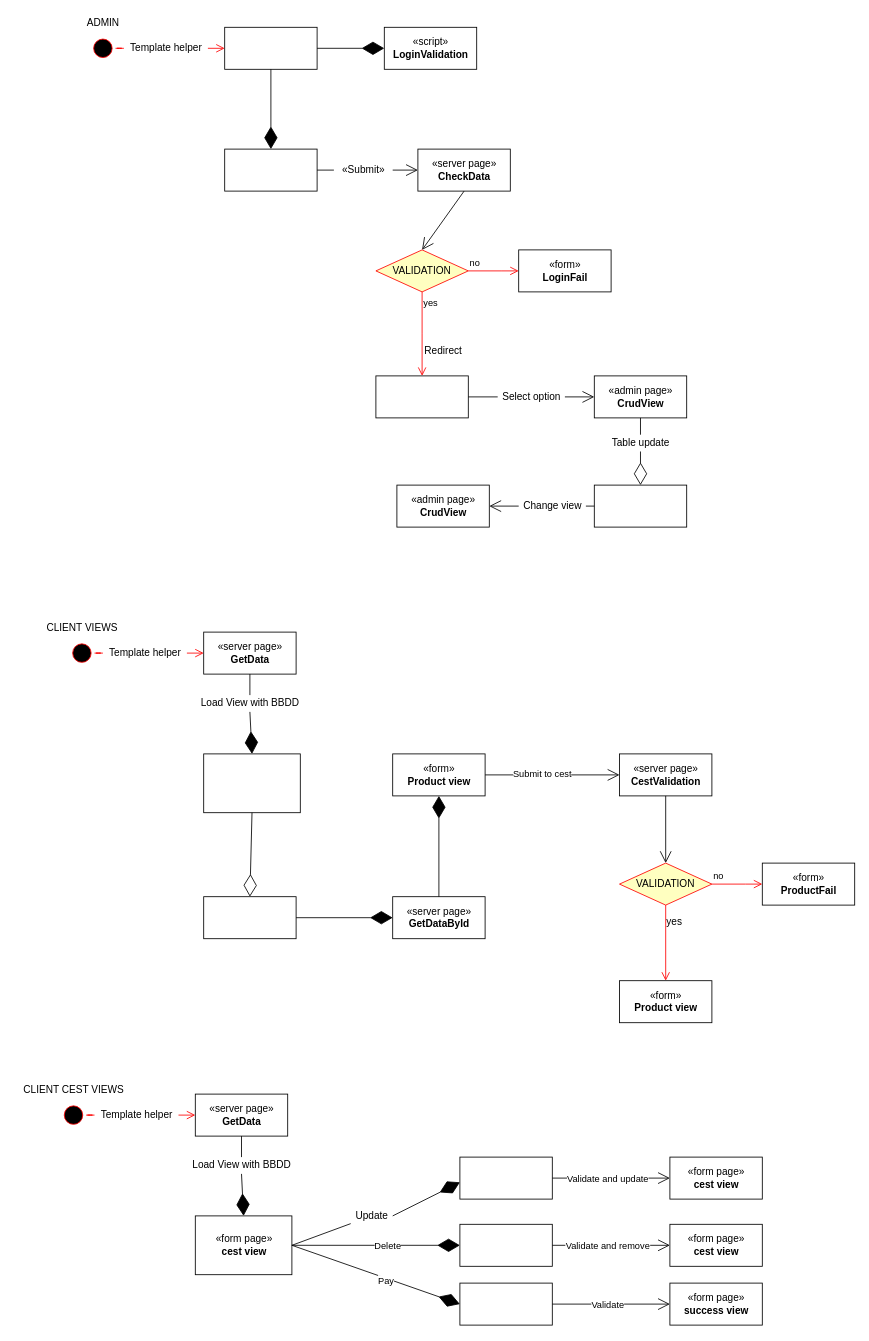
The diagram is 869 pixels wide and 1341 high, and some of its shapes have lost their labels. Here are the shapes that lost their labels. From the top down, the centre of each, then its label:
At (270,47): "«admin page» Login".
At (270,169): "«form» Login".
At (421,396): "«admin page» ControlPanel".
At (640,505): "«server page» GetChange".
At (251,783): "«client page» home, shop or product view".
At (249,917): "«client page» Product view".
At (505,1177): "«server page» CestUpdate".
At (505,1244): "«server page» CestDelete".
At (505,1303): "«server page» CestPay".
